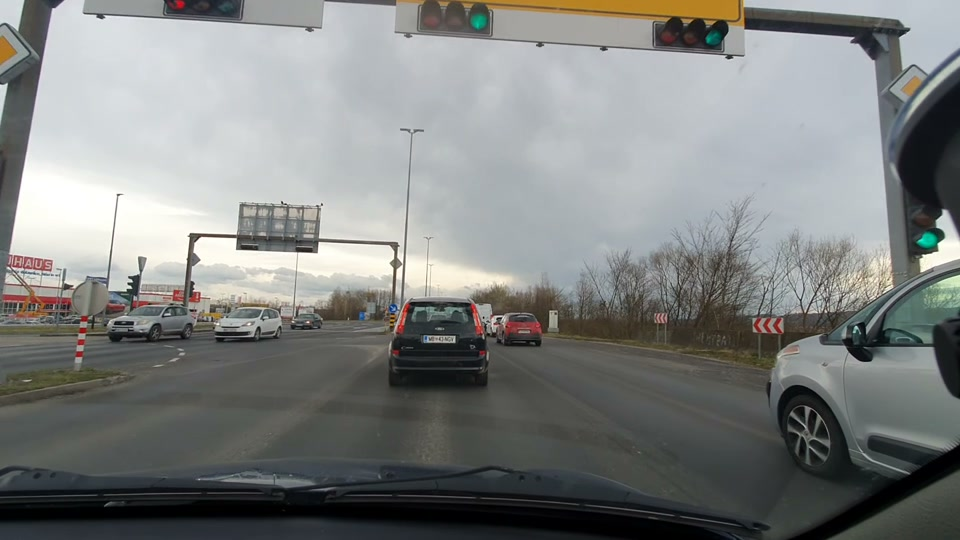vehicle_ign: (766, 243, 960, 499), (379, 288, 497, 389), (498, 306, 543, 350)
vehicle_s: (109, 300, 196, 348), (211, 297, 284, 351), (291, 312, 321, 334)
